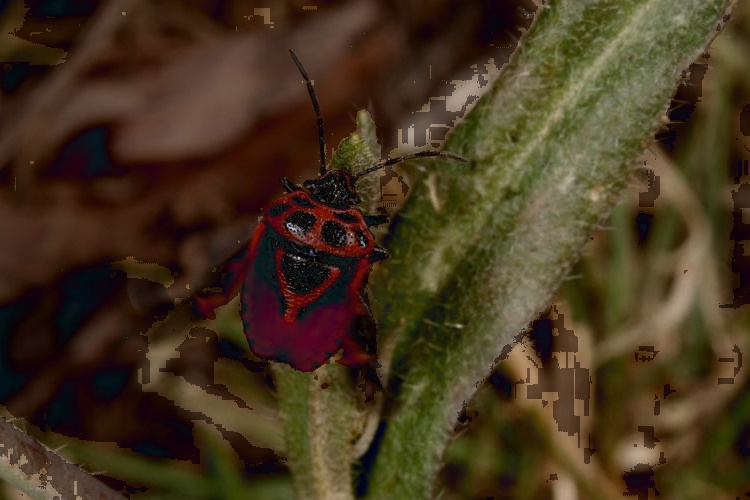Stink_Bug: (222, 151, 390, 352)
